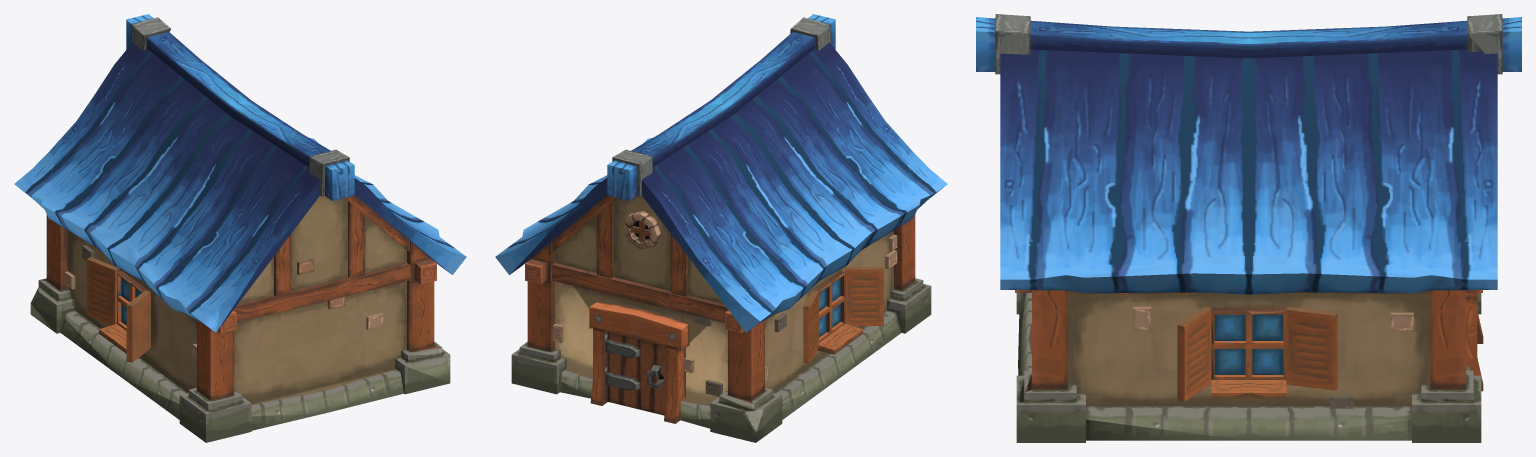
File: HOS0110018.fbx
3 renders of one model, left to right at view 1: azimuth 30°, elevation 25°; view 2: azimuth 150°, elevation 25°; view 3: azimuth 270°, elevation 25°, orthographic. The views are drawn at different scales.
Parts seen in each view (by area): view 1: smHOS0110018; view 2: smHOS0110018; view 3: smHOS0110018.
Part boxes in pixels (x1,y1,x2,y2): smHOS0110018: (14,14,466,442); smHOS0110018: (495,14,947,442); smHOS0110018: (976,14,1521,442).
Size of the model in its own units: 797 by 712 by 1030.
Materials: 1 (1 with a texture image).
